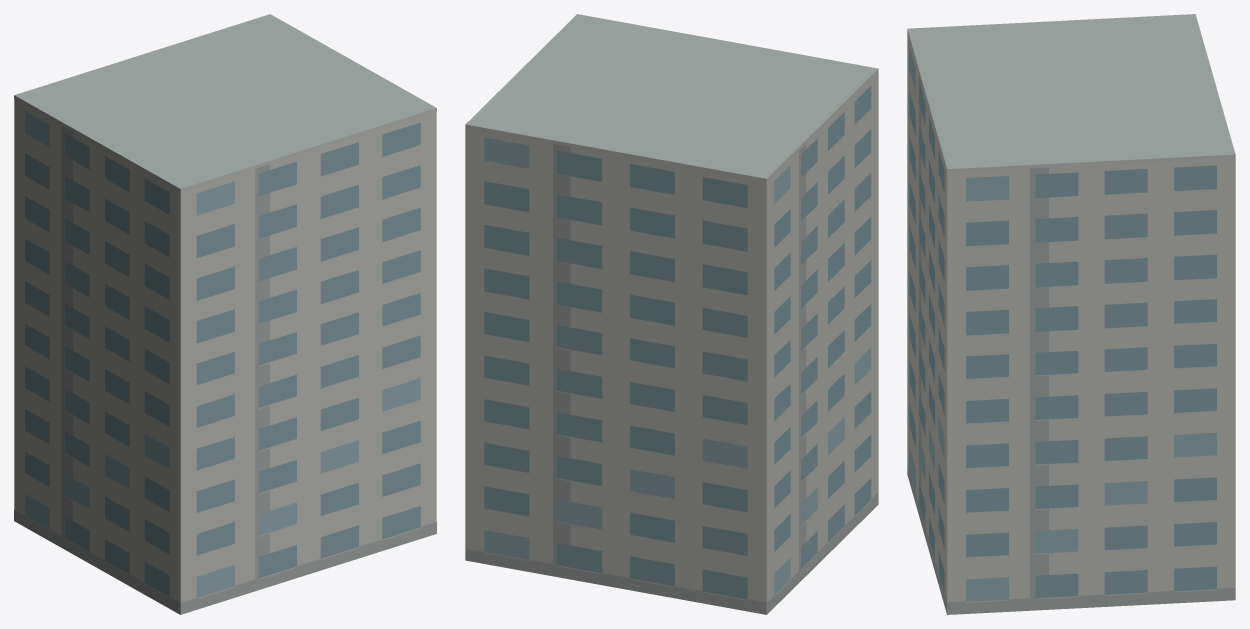
Rendered from residential-bc283efa-c7ee-4caa-bc03-d1cf4d1ce8e3.glb.
3 renders of one model, left to right at view 1: azimuth 30°, elevation 25°; view 2: azimuth 150°, elevation 25°; view 3: azimuth 270°, elevation 25°, orthographic. The views are drawn at different scales.
Visible parts, largest first — view 1: residential-bc283efa-c7ee-4caa-bc03-d1cf4d1ce8e3.tmp; view 2: residential-bc283efa-c7ee-4caa-bc03-d1cf4d1ce8e3.tmp; view 3: residential-bc283efa-c7ee-4caa-bc03-d1cf4d1ce8e3.tmp.
Part boxes in pixels (bbox=[...]): residential-bc283efa-c7ee-4caa-bc03-d1cf4d1ce8e3.tmp: bbox=[14, 14, 436, 614]; residential-bc283efa-c7ee-4caa-bc03-d1cf4d1ce8e3.tmp: bbox=[465, 14, 878, 614]; residential-bc283efa-c7ee-4caa-bc03-d1cf4d1ce8e3.tmp: bbox=[907, 14, 1235, 614].
Size of the model in its own units: 22.79 by 30.5 by 20.37.
